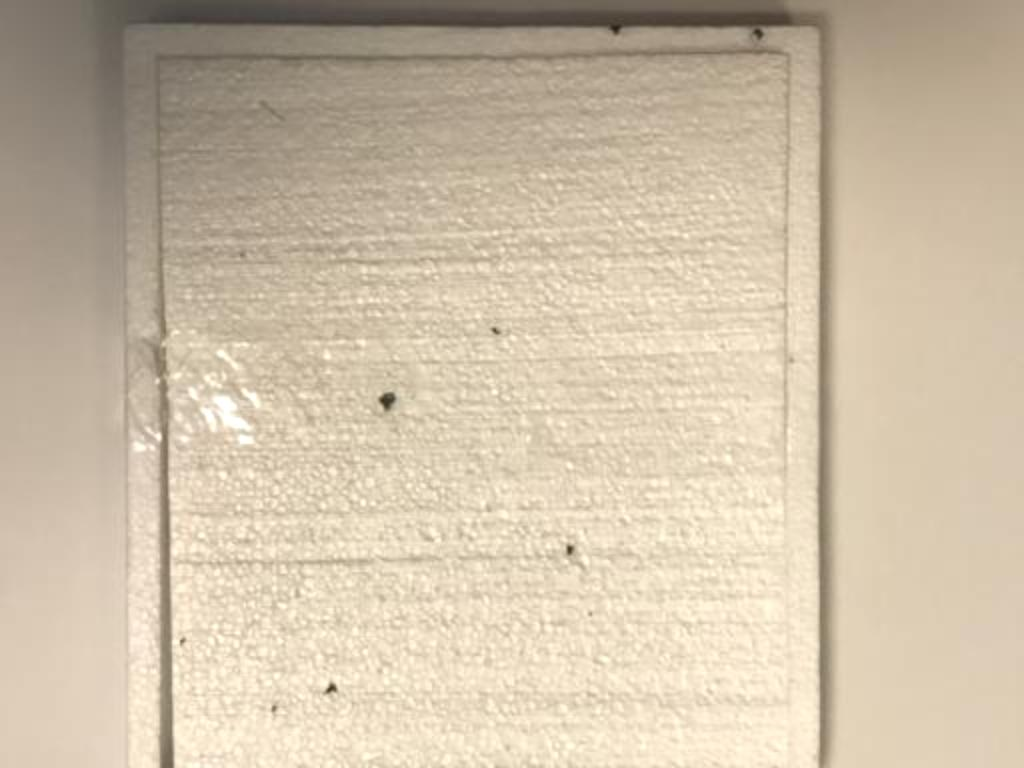garbage: (113, 12, 851, 768)
